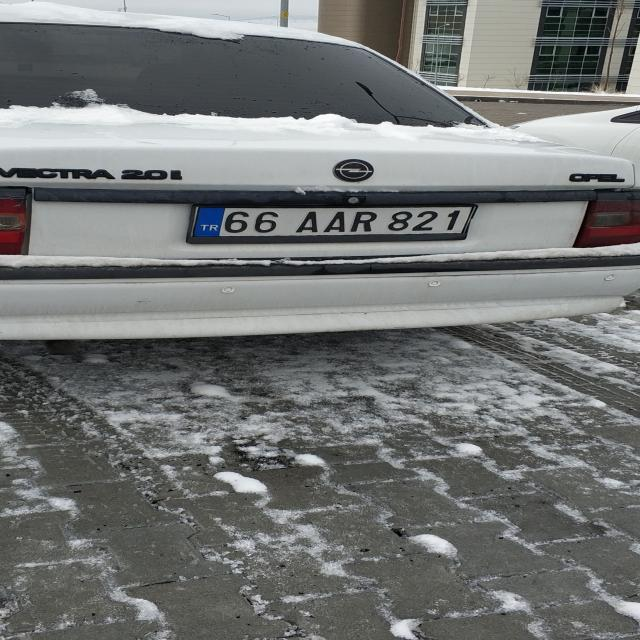license_plate: (190, 206, 473, 237)
